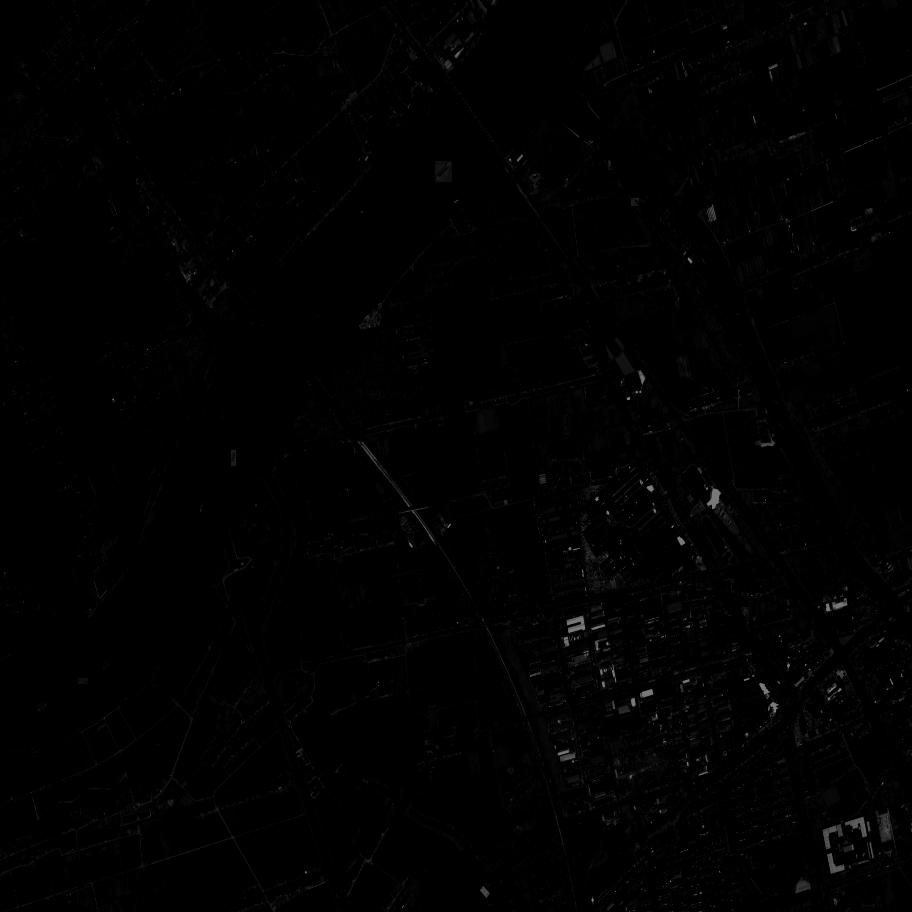ship: (487, 7, 510, 32), (434, 161, 453, 183), (313, 313, 325, 326), (360, 199, 372, 211), (361, 202, 372, 215), (193, 296, 204, 309), (36, 702, 48, 712), (623, 186, 635, 196), (204, 421, 213, 434), (247, 319, 257, 330), (614, 170, 624, 180), (216, 383, 223, 397), (59, 697, 71, 705), (600, 139, 608, 151), (598, 140, 606, 152), (231, 451, 237, 466), (608, 160, 617, 170), (579, 130, 589, 139), (118, 649, 126, 660), (172, 550, 180, 561), (207, 423, 215, 434), (115, 631, 121, 645), (496, 18, 503, 30), (596, 144, 603, 156), (631, 198, 640, 207), (50, 685, 58, 695), (103, 661, 111, 670), (250, 324, 260, 331), (421, 170, 427, 181), (78, 679, 89, 685), (613, 171, 621, 179), (252, 325, 259, 334), (194, 280, 203, 287), (206, 312, 213, 321), (495, 23, 504, 30), (610, 159, 617, 168), (582, 128, 589, 137), (579, 133, 588, 140), (596, 145, 605, 152), (134, 631, 139, 643), (249, 323, 257, 330), (201, 272, 208, 280), (201, 503, 206, 514), (212, 476, 218, 485), (201, 305, 207, 313), (609, 161, 614, 170), (454, 201, 460, 208), (454, 198, 461, 204), (191, 286, 196, 294), (230, 399, 235, 407), (361, 224, 367, 230), (242, 442, 245, 454), (399, 224, 403, 231), (190, 285, 193, 294), (588, 141, 592, 146), (0, 692, 4, 696), (588, 140, 593, 143), (474, 82, 475, 94), (41, 97, 43, 99)
